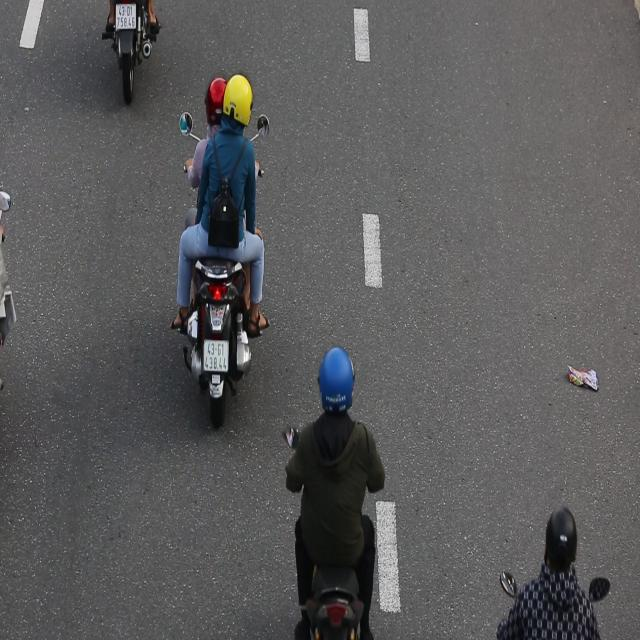motorbike: (172, 63, 272, 431)
